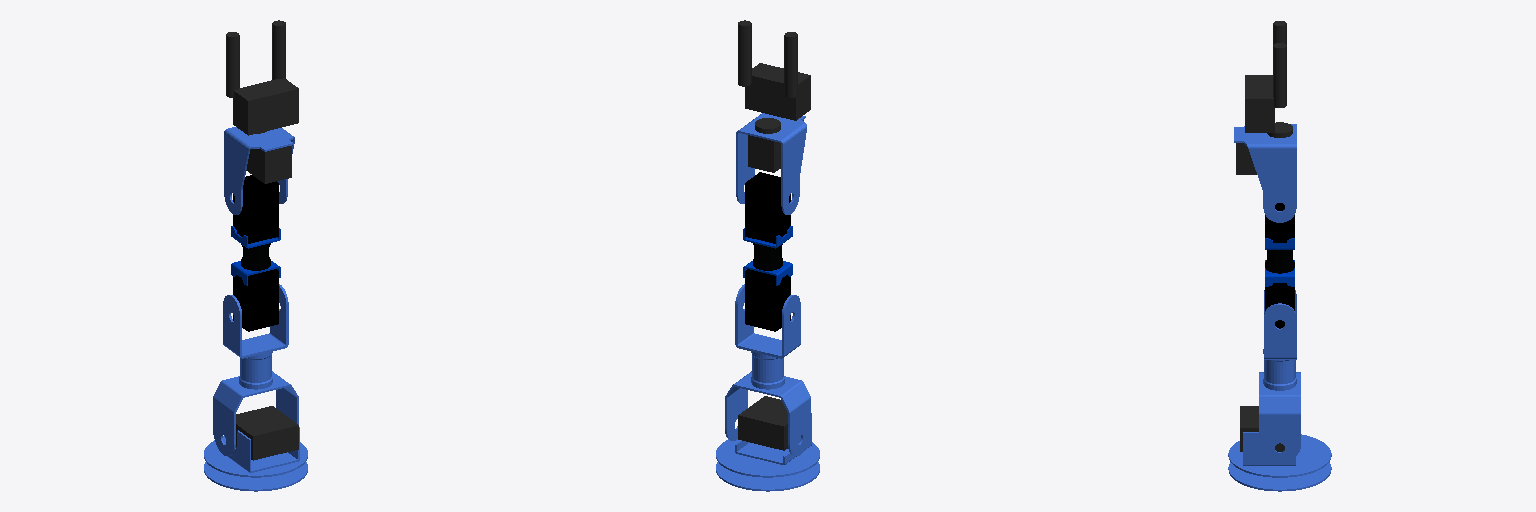
URDF robot description (xArm):
<?xml version="1.0" ?>
<robot name="xArm">

 	<link name="world"/>

	<link name="base_link">
		<visual>
			<origin rpy="0 0 0.0" xyz="0 0 0"/>
      		<geometry>
                <mesh filename="src/assets/meshes/base.dae"/>
      		</geometry>
            <material name="blue">
                <color rgba="0.3 0.5 0.9 1.0"/>
            </material>
		</visual>
		<collision>
			<origin rpy="0 0 0.0" xyz="0 0 0.025"/>
      		<geometry>
                <box size="0.154 0.14 0.04"/>
      		</geometry>
		</collision>
        <inertial>
            <mass value="1"/>
            <inertia ixx="0.0001" ixy="0" ixz="0" iyy="0.0001" iyz="0" izz="0.00001"/>
        </inertial>
  	</link>

      <link name="base_swivel_link">
        <visual>
              <origin rpy="0 0 0" xyz="0.0 0.0 0.034"/>
              <geometry>
                <mesh filename="src/assets/meshes/lx225.dae"/>
              </geometry>
              <material name="black">
                <color rgba="0.2 0.2 0.2 1.0"/>
              </material>
        </visual>
        <visual>
          <origin rpy="0 0 0" xyz="0 0 0"/>
              <geometry>
                <mesh filename="src/assets/meshes/base_swivel.dae"/>
              </geometry>
              <material name="blue">
                <color rgba="0.3 0.5 0.9 1.0"/>
              </material>
        </visual>
		<collision>
			<origin rpy="0 0 0.0" xyz="0 0 0.0"/>
      		<geometry>
                <cylinder length="0.04" radius="0.06"/>
      		</geometry>
		</collision>
        <inertial>
            <mass value="1"/>
            <inertia ixx="0.0001" ixy="0" ixz="0" iyy="0.0001" iyz="0" izz="0.00001"/>
        </inertial>
      </link>

      <link name="upperarm_link">
        <visual>
              <origin rpy="0 0 0" xyz="0.0 0.0 0.0"/>
              <geometry>
                <mesh filename="src/assets/meshes/upperarm_link.dae"/>
              </geometry>
              <material name="blue">
                <color rgba="0.3 0.5 0.9 1.0"/>
              </material>
        </visual>
		<collision>
			<origin rpy="0 0 0.0" xyz="0 0 0.055"/>
      		<geometry>
                <box size="0.055 0.04 0.11" />
      		</geometry>
		</collision>
        <inertial>
            <mass value="1"/>
            <inertia ixx="0.0001" ixy="0" ixz="0" iyy="0.0001" iyz="0" izz="0.00001"/>
        </inertial>
      </link>

      <link name="forearm_link">
        <visual>
              <origin rpy="0 0 0" xyz="0.0 0.0 0.0"/>
              <geometry>
                <mesh filename="src/assets/meshes/lx15d_double.dae"/>
              </geometry>
              <!--<material name="black">-->
                <!--<color rgba="0.2 0.2 0.2 1.0"/>-->
              <!--</material>-->
        </visual>
        <visual>
              <origin rpy="0 0 0" xyz="0.0 0.0 0.0"/>
              <geometry>
                <mesh filename="src/assets/meshes/forearm_link.dae"/>
              </geometry>
              <!--<material name="blue">-->
                <!--<color rgba="0.3 0.5 0.9 1.0"/>-->
              <!--</material>-->
        </visual>
        <visual>
              <origin rpy="0 3.14159 0" xyz="0.0 0.0 0.095"/>
              <geometry>
                <mesh filename="src/assets/meshes/lx15d_double.dae"/>
              </geometry>
              <!--<material name="black">-->
                <!--<color rgba="0.2 0.2 0.2 1.0"/>-->
              <!--</material>-->
        </visual>
		<collision>
			<origin rpy="0 0 0.0" xyz="0 0 0.05"/>
      		<geometry>
                <box size="0.04 0.03 0.11" />
      		</geometry>
		</collision>
        <inertial>
            <mass value="1"/>
            <inertia ixx="0.0001" ixy="0" ixz="0" iyy="0.0001" iyz="0" izz="0.00001"/>
        </inertial>
      </link>

      <link name="wrist_link">
        <visual>
              <origin rpy="1.5708 1.5708 0" xyz="0.0 0.0 0.0365"/>
              <geometry>
                <mesh filename="src/assets/meshes/lx15d_double.dae"/>
              </geometry>
              <material name="black">
                <color rgba="0.2 0.2 0.2 1.0"/>
              </material>
        </visual>
        <visual>
              <origin rpy="0 0 0" xyz="0.0 0.0 0.0"/>
              <geometry>
                  <mesh filename="src/assets/meshes/wrist_link.dae"/>
              </geometry>
              <material name="blue">
                <color rgba="0.3 0.5 0.9 1.0"/>
              </material>
        </visual>
		<collision>
			<origin rpy="0 0 0.0" xyz="0 -0.01 0.025"/>
      		<geometry>
                <box size="0.05 0.04 0.06" />
      		</geometry>
		</collision>
        <inertial>
            <mass value="1"/>
            <inertia ixx="0.0001" ixy="0" ixz="0" iyy="0.0001" iyz="0" izz="0.00001"/>
        </inertial>
      </link>

      <link name="hand_link">
        <visual>
              <origin rpy="0 0 0.0" xyz="0 0 0"/>
              <geometry>
                <cylinder length="0.004" radius="0.01"/>
              </geometry>
              <material name="black">
                <color rgba="0.2 0.2 0.2 1.0"/>
              </material>
        </visual>
        <visual>
              <origin rpy="0 0 1.5708" xyz="-0.015 0.0 0.022"/>
              <geometry>
                <box size="0.044 0.023 0.0285"/>
              </geometry>
              <material name="black">
                <color rgba="0.2 0.2 0.2 1"/>
              </material>
        </visual>
        <collision>
              <origin rpy="0 0 1.5708" xyz="-0.015 0.0 0.022"/>
              <geometry>
                <box size="0.044 0.023 0.0285"/>
              </geometry>
        </collision>
        <inertial>
            <mass value="1"/>
            <inertia ixx="0.0001" ixy="0" ixz="0" iyy="0.0001" iyz="0" izz="0.00001"/>
        </inertial>
      </link>

      <link name="gripper_left_link">
        <visual>
              <origin rpy="0 0 0.0" xyz="0 0.0 0.025"/>
              <geometry>
                <cylinder length="0.05" radius="0.005"/>
              </geometry>
              <material name="black">
                <color rgba="0.2 0.2 0.2 1.0"/>
              </material>
        </visual>
        <collision>
              <origin rpy="0 0 0.0" xyz="0 0.0 0.025"/>
              <geometry>
                <cylinder length="0.05" radius="0.005"/>
              </geometry>
        </collision>
        <inertial>
            <mass value="1"/>
            <inertia ixx="0.0001" ixy="0" ixz="0" iyy="0.0001" iyz="0" izz="0.00001"/>
        </inertial>
      </link>
    
      <link name="gripper_right_link">
        <visual>
              <origin rpy="0 0 0.0" xyz="0 0.0 0.025"/>
              <geometry>
                <cylinder length="0.05" radius="0.005"/>
              </geometry>
              <material name="black">
                <color rgba="0.2 0.2 0.2 1.0"/>
              </material>
        </visual>
        <collision>
              <origin rpy="0 0 0.0" xyz="0 0.0 0.025"/>
              <geometry>
                <cylinder length="0.05" radius="0.005"/>
              </geometry>
        </collision>
        <inertial>
            <mass value="1"/>
            <inertia ixx="0.0001" ixy="0" ixz="0" iyy="0.0001" iyz="0" izz="0.00001"/>
        </inertial>
      </link>

     <joint name="world_joint" type="fixed">
        <parent link="world"/>
        <child link="base_link"/>
        <origin rpy="0.0 0.0 1.5708" xyz="0.0 0.0 0.012"/>
     </joint>

      <joint name="base_joint" type="revolute">
        <parent link="base_link"/>
        <child link="base_swivel_link"/>
        <origin rpy="0.0 0.0 -1.5708" xyz="0.0 0.0 0.034"/>
        <limit lower="-3" upper="3" velocity="2.09"/>
        <axis xyz="0 0 1"/>
      </joint>

      <joint name="shoulder_joint" type="revolute">
        <parent link="base_swivel_link"/>
        <child link="upperarm_link"/>
        <origin rpy="0.0 0.0 0.0" xyz="0.0 0.0 0.031"/>
        <limit lower="-1.5708" upper="1.5708" velocity="2.09"/>
        <axis xyz="1 0 0"/>
      </joint>

      <joint name="elbow_joint" type="revolute">
        <parent link="upperarm_link"/>
        <child link="forearm_link"/>
        <origin rpy="0.0 0.0 0.0" xyz="0.0 0.0 0.101"/>
        <limit lower="-1.5708" upper="1.5708" velocity="2.09"/>
        <axis xyz="1 0 0"/>
      </joint>

      <joint name="wrist_joint" type="revolute">
        <parent link="forearm_link"/>
        <child link="wrist_link"/>
        <origin rpy="0.0 0.0 0.0" xyz="0.0 0.0 0.0965"/>
        <limit lower="-1.5708" upper="1.5708" velocity="2.09"/>
        <axis xyz="1 0 0"/>
      </joint>

      <joint name="wristRotation_joint" type="revolute">
        <parent link="wrist_link"/>
        <child link="hand_link"/>
        <origin rpy="0.0 0.0 1.5708" xyz="0.0 0.0 0.055"/>
        <limit lower="-1.5708" upper="1.5708" velocity="2.09"/>
        <axis xyz="0 0 1"/>
      </joint>

      <joint name="gripper_left_joint" type="revolute">
        <parent link="hand_link"/>
        <child link="gripper_left_link"/>
        <origin rpy="0.0 0. 0.0" xyz="0.0 0.02 0.03"/>
        <limit lower="-1.5708" upper="1.5708" velocity="2.09"/>
        <axis xyz="-1 0 0"/>
      </joint>

      <joint name="gripper_right_joint" type="revolute">
        <parent link="hand_link"/>
        <child link="gripper_right_link"/>
        <origin rpy="0.0 0.0 0.0" xyz="0.0 -0.02 0.03"/>
        <limit lower="-1.5708" upper="1.5708" velocity="2.09"/>
        <axis xyz="1 0 0"/>
      </joint>

</robot>

--- Facts derived from the render (not from the file) ---
Views: 3 orthographic renders of the robot side by side, from view 1: azimuth 30°, elevation 25°; view 2: azimuth 150°, elevation 25°; view 3: azimuth 270°, elevation 25°.
Model xArm with 9 links and 8 joints (7 revolute, 1 fixed), rooted at world, posed all joints at 0.
Visible links, largest first — view 1: base_swivel_link, upperarm_link, forearm_link, wrist_link, hand_link, gripper_left_link, gripper_right_link; view 2: base_swivel_link, upperarm_link, forearm_link, wrist_link, hand_link, gripper_right_link, gripper_left_link; view 3: upperarm_link, base_swivel_link, wrist_link, forearm_link, hand_link, gripper_right_link.
Boxes of the visible links, bbox=[...] form: base_swivel_link: bbox=[204, 406, 307, 491]; upperarm_link: bbox=[213, 284, 298, 455]; forearm_link: bbox=[231, 175, 280, 331]; wrist_link: bbox=[224, 127, 294, 214]; hand_link: bbox=[233, 78, 298, 135]; gripper_left_link: bbox=[226, 32, 239, 97]; gripper_right_link: bbox=[272, 20, 285, 79]; base_swivel_link: bbox=[716, 396, 819, 491]; upperarm_link: bbox=[725, 284, 810, 455]; forearm_link: bbox=[743, 172, 792, 331]; wrist_link: bbox=[736, 113, 806, 214]; hand_link: bbox=[745, 63, 810, 133]; gripper_right_link: bbox=[738, 20, 751, 86]; gripper_left_link: bbox=[784, 32, 797, 97]; upperarm_link: bbox=[1259, 290, 1300, 462]; base_swivel_link: bbox=[1228, 406, 1331, 491]; wrist_link: bbox=[1234, 124, 1296, 222]; forearm_link: bbox=[1265, 203, 1294, 328]; hand_link: bbox=[1245, 75, 1292, 137]; gripper_right_link: bbox=[1273, 43, 1286, 107].
Bounding box of the posed robot: 0.078 × 0.078 × 0.3635 m (x, y, z).
Meshes: 7 distinct files referenced, 8 mesh visuals loaded (6 Collada DAE); not drawn: 1 (reference not matched to a file when rendering).